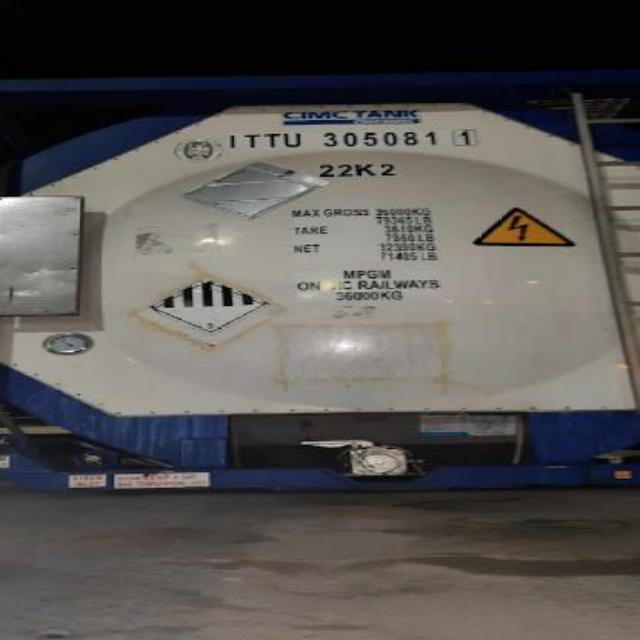0: (381, 130, 402, 146), (341, 132, 362, 146)
1: (454, 130, 476, 146), (421, 130, 442, 146)
3: (320, 132, 340, 148)
5: (364, 132, 380, 146)
8: (404, 132, 420, 144)
I: (224, 131, 240, 149)
T: (240, 132, 262, 150), (262, 131, 282, 149)
U: (282, 130, 304, 148)
